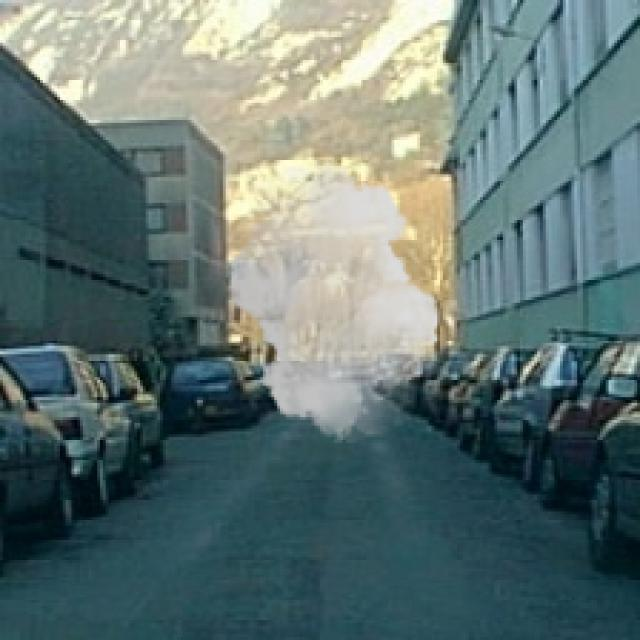smoke: (220, 160, 449, 443)
